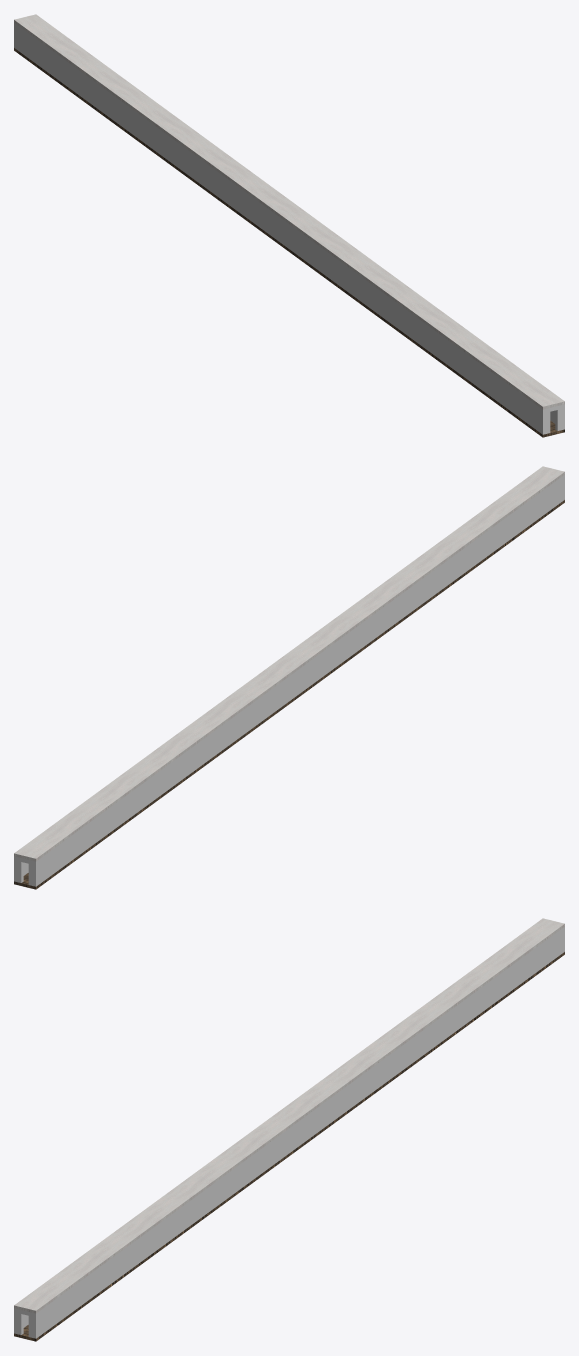
Rendered from Level_8.glb.
The picture shows the model from 3 angles, top to bottom: view 1: azimuth 30°, elevation 25°; view 2: azimuth 150°, elevation 25°; view 3: azimuth 330°, elevation 25°; orthographic projection.
Parts seen in each view (by area): view 1: Layer:2 corridor_wall, Layer:3 ceiling, Layer:1 wood_floor; view 2: Layer:2 corridor_wall, Layer:3 ceiling, Layer:1 wood_floor; view 3: Layer:2 corridor_wall, Layer:3 ceiling, Layer:1 wood_floor.
Boxes of the visible parts, box(x1,y1,x2,y2) form: Layer:2 corridor_wall: box(14, 23, 564, 434); Layer:3 ceiling: box(14, 14, 564, 409); Layer:1 wood_floor: box(14, 48, 564, 437); Layer:2 corridor_wall: box(14, 475, 564, 886); Layer:3 ceiling: box(14, 466, 564, 861); Layer:1 wood_floor: box(14, 500, 564, 889); Layer:2 corridor_wall: box(14, 927, 564, 1338); Layer:3 ceiling: box(14, 918, 564, 1313); Layer:1 wood_floor: box(14, 952, 564, 1341).
Bounding box in the file's own units: 2.4 × 3.2 × 99.37.
Materials: 3 (2 with a texture image).
